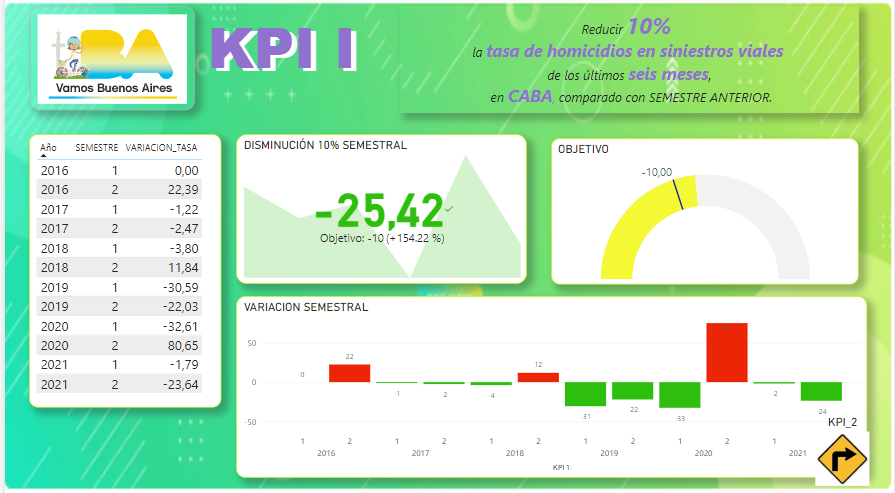

This screenshot's page, from the dashboard's own definition file:
{"tool":"powerbi","page":{"name":"KPI_1","canvas":[1280,720],"ordinal":3},"visuals":[{"type":"gauge","title":"OBJETIVO","fields":{"Y":["Sum(kpi_1 (2).VARIACION_TASA)"]},"box":[786.8,203,442.9,211.4],"z":1000},{"type":"textbox","box":[568.7,13.4,661,154.3],"z":2000},{"type":"image","box":[35.3,13.5,237.2,149.7],"z":3000},{"type":"textbox","box":[293.6,13.4,238.2,149.3],"z":4000},{"type":"textbox","box":[286.9,8.4,238.2,149.3],"z":5000},{"type":"kpi","title":"DISMINUCIÓN 10% SEMESTRAL","fields":{"Indicator":["Sum(kpi_1 (2).VARIACION_TASA)"],"TrendLine":["kpi_1 (2).AÑO"],"Goal":["kpi_1 (2).KPI1"]},"box":[332.2,198,419.4,216.4],"z":6000},{"type":"columnChart","title":"VARIACION SEMESTRAL","fields":{"Category":["kpi_1 (2).FECHA.Variación.Jerarquía de fechas.Año","kpi_1 (2).SEMESTRE"],"Y":["Sum(kpi_1 (2).VARIACION_TASA)"]},"box":[332.2,431.1,909.3,261.7],"z":7000},{"type":"tableEx","fields":{"Values":["kpi_1 (2).AÑO.Variación.Jerarquía de fechas.Año","kpi_1 (2).SEMESTRE","kpi_1 (2).VARIACION_TASA"]},"box":[35.2,198,276.8,394.2],"z":8000},{"type":"image","title":"KPI_2","box":[1131.8,601.9,148.3,106.6],"z":9000}]}

Visuals, with their boxes in screenshot pixels (x1, y1, x2, y2), scaled from the page's 1280x720 canvas onto the 895x493 screenshot:
"OBJETIVO" gauge: bbox=[550, 139, 860, 284]
textbox: bbox=[398, 9, 860, 115]
image: bbox=[25, 9, 191, 112]
textbox: bbox=[205, 9, 372, 111]
textbox: bbox=[201, 6, 367, 108]
"DISMINUCIÓN 10% SEMESTRAL" kpi: bbox=[232, 136, 526, 284]
"VARIACION SEMESTRAL" columnChart: bbox=[232, 295, 868, 474]
tableEx - kpi_1 (2).AÑO.Variación.Jerarquía de fechas.Año x kpi_1 (2).SEMESTRE: bbox=[25, 136, 218, 405]
"KPI_2" image: bbox=[791, 412, 894, 485]
